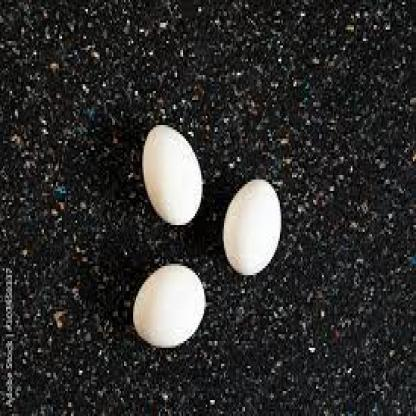egg: (132, 262, 206, 348), (142, 124, 204, 226), (223, 178, 282, 276)
